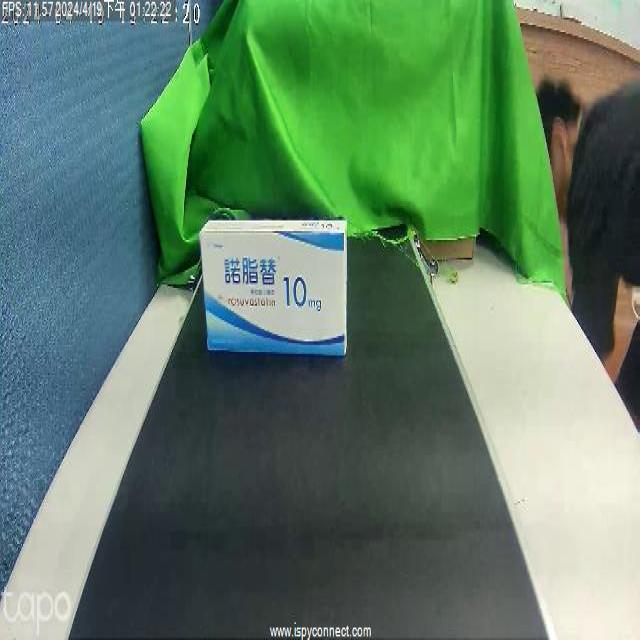box: (208, 218, 355, 363)
